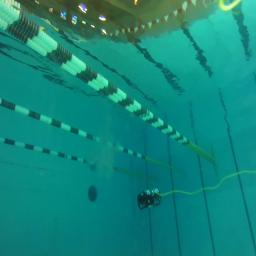back: (135, 186, 162, 210)
